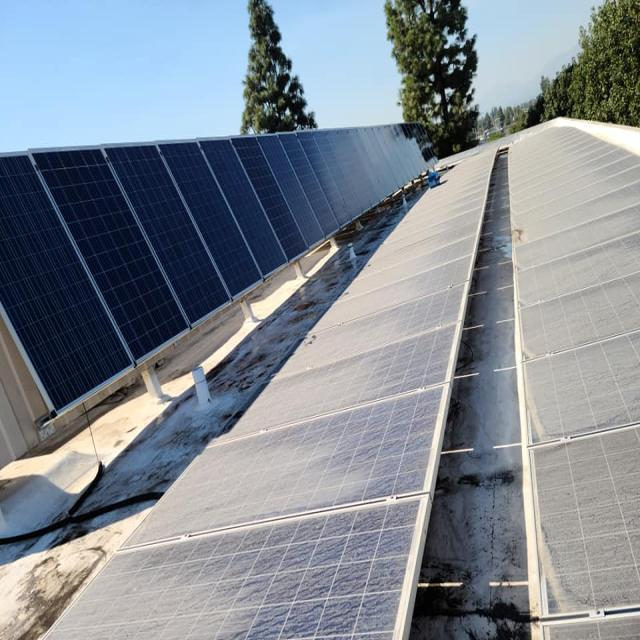Anomaly Solar Panel: (230, 144, 494, 439), (508, 124, 637, 636), (40, 495, 429, 639), (115, 384, 447, 548)
Normal Solar Panel: (29, 147, 193, 365), (1, 152, 136, 413), (103, 144, 234, 327), (156, 140, 264, 299), (197, 138, 289, 278), (230, 135, 309, 262), (256, 135, 325, 249), (277, 133, 340, 238)
Surface Contaminant: (225, 143, 497, 441), (506, 123, 639, 639), (115, 412, 395, 550), (35, 523, 269, 639)
